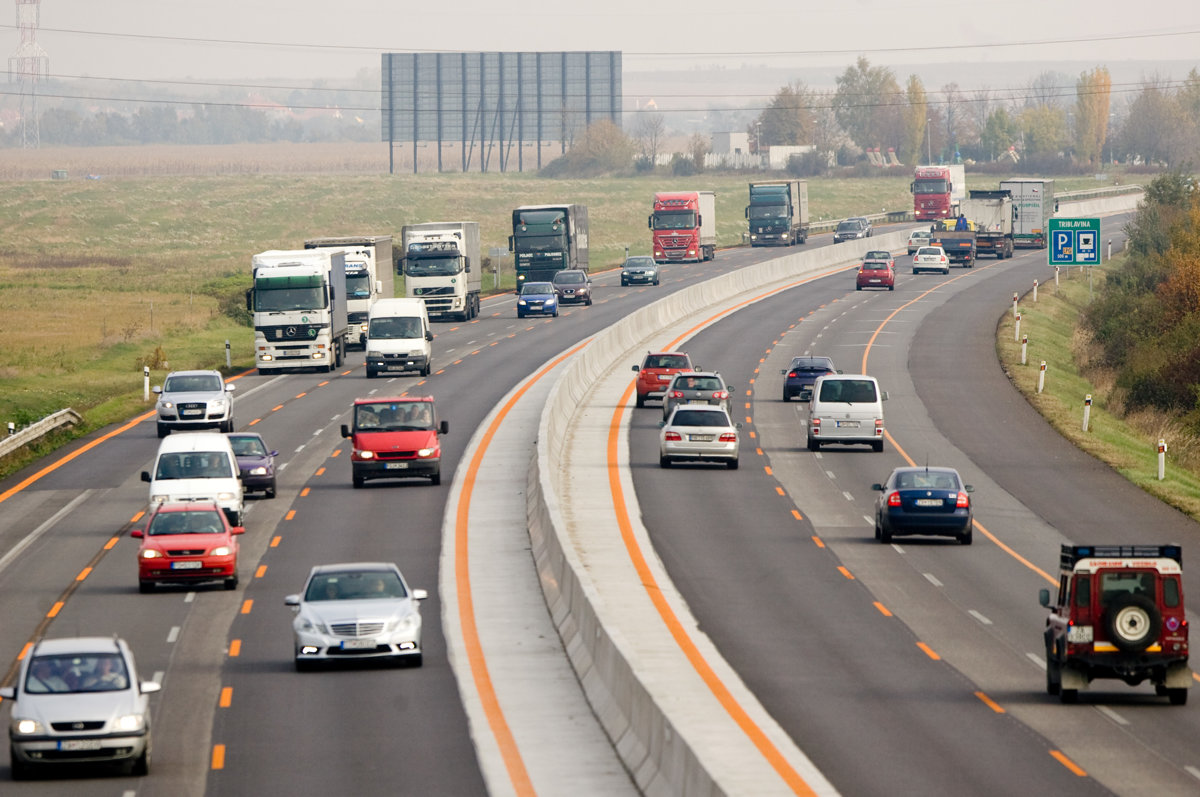Bus: (507, 198, 591, 288)
Car: (2, 626, 165, 782), (285, 558, 435, 683), (124, 502, 251, 604), (153, 368, 250, 430), (517, 281, 561, 324)
Jeep: (1012, 529, 1199, 719)
Truck: (244, 253, 346, 379), (641, 193, 727, 269), (740, 177, 816, 251)
Van: (339, 390, 449, 492), (356, 303, 439, 389)
